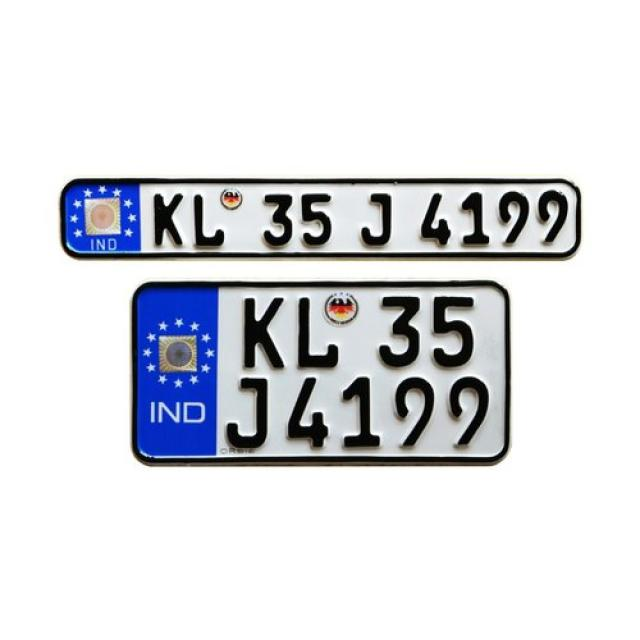plate: (129, 280, 507, 468), (57, 177, 580, 263)
